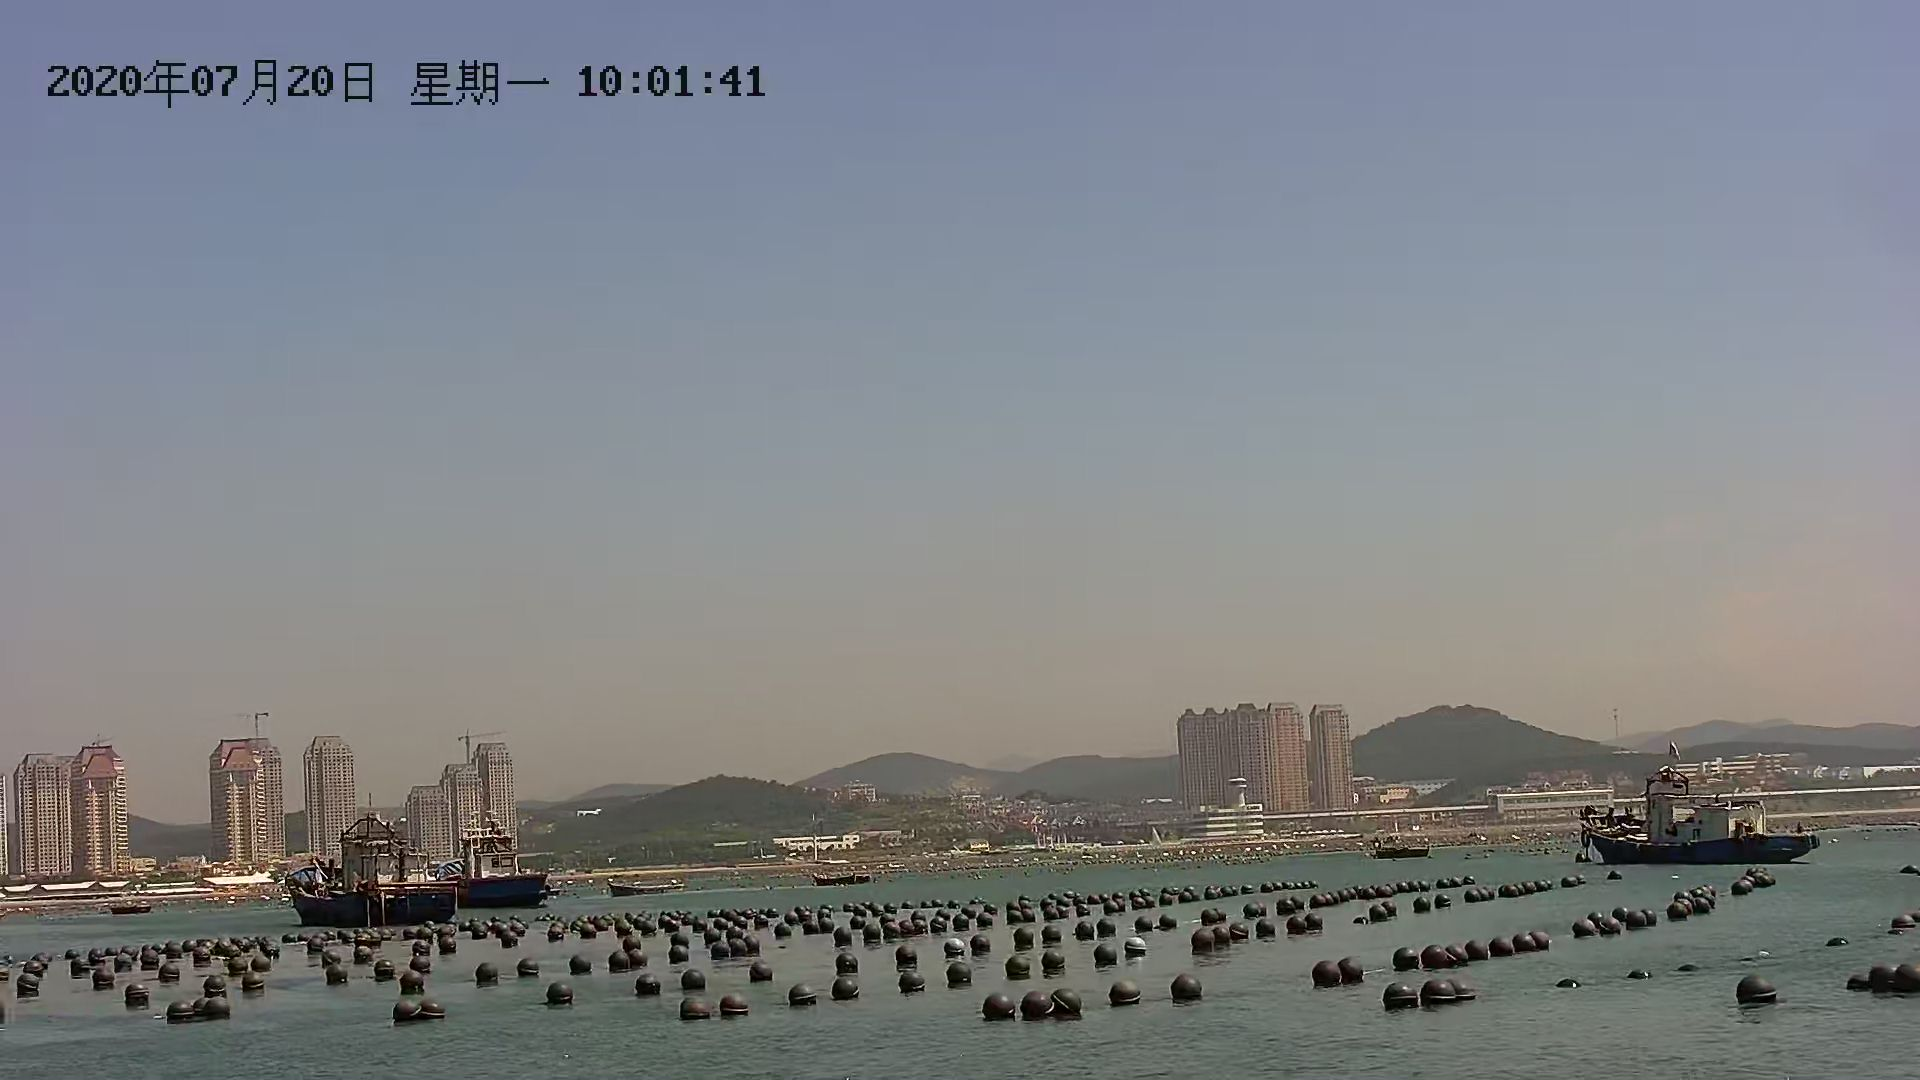ball: (1379, 977, 1420, 1018), (1887, 957, 1920, 1004), (1731, 972, 1776, 1004), (1309, 953, 1344, 992), (781, 978, 820, 1011), (1419, 978, 1461, 1007), (1168, 969, 1204, 1004), (1104, 977, 1143, 1007), (545, 973, 574, 1013), (160, 993, 195, 1025), (392, 996, 423, 1031), (1055, 988, 1087, 1023), (421, 1001, 454, 1033), (825, 977, 864, 1004), (1021, 993, 1055, 1022), (720, 992, 752, 1021), (123, 978, 146, 1017), (15, 972, 42, 1004), (199, 996, 233, 1021), (982, 993, 1011, 1022), (473, 961, 504, 985), (637, 972, 661, 1001), (895, 972, 924, 996), (680, 998, 705, 1025), (324, 967, 345, 992)
boat: (1366, 840, 1437, 862), (611, 876, 683, 894), (812, 866, 876, 887), (107, 895, 161, 918)
ship: (1561, 767, 1847, 873), (284, 808, 464, 948), (444, 800, 560, 916)
